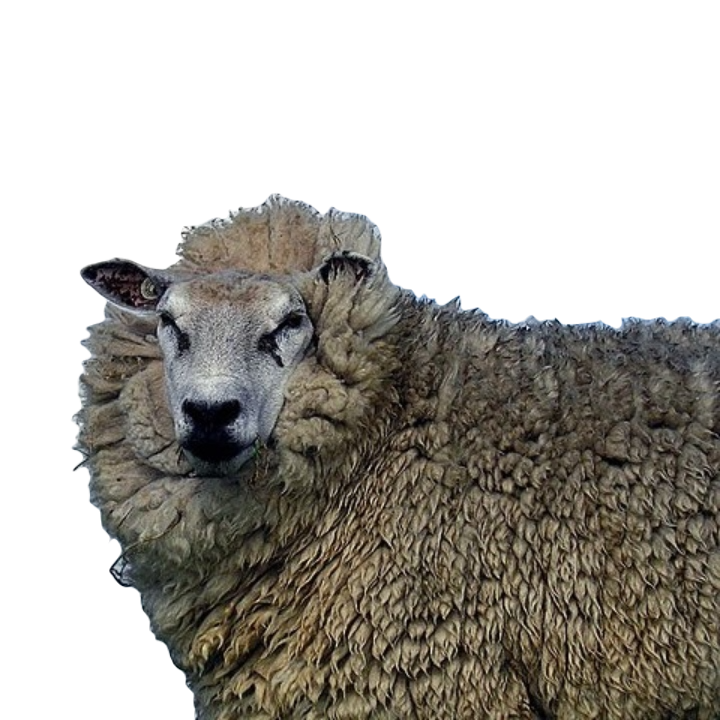Sheep: (65, 192, 719, 719)
